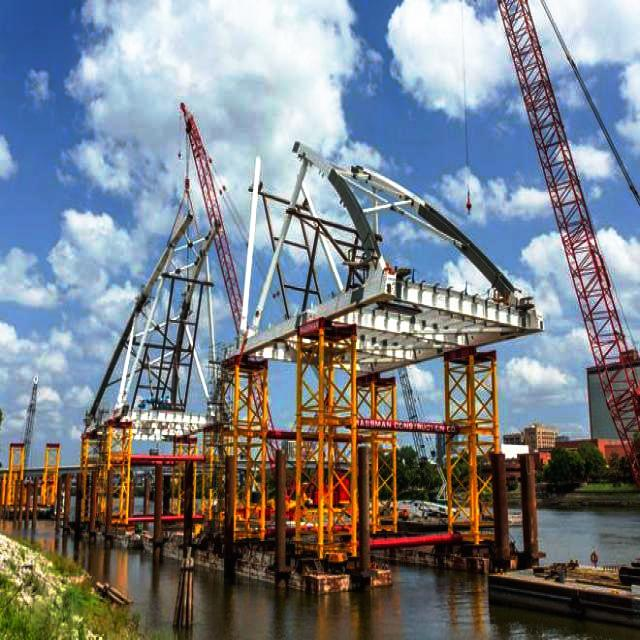Corrosion: (521, 455, 541, 568), (275, 450, 290, 591), (494, 454, 512, 568), (223, 456, 237, 584), (359, 447, 371, 574), (152, 464, 164, 566), (183, 462, 193, 548), (23, 478, 38, 530), (61, 474, 72, 536), (88, 471, 97, 542), (104, 471, 113, 542)
